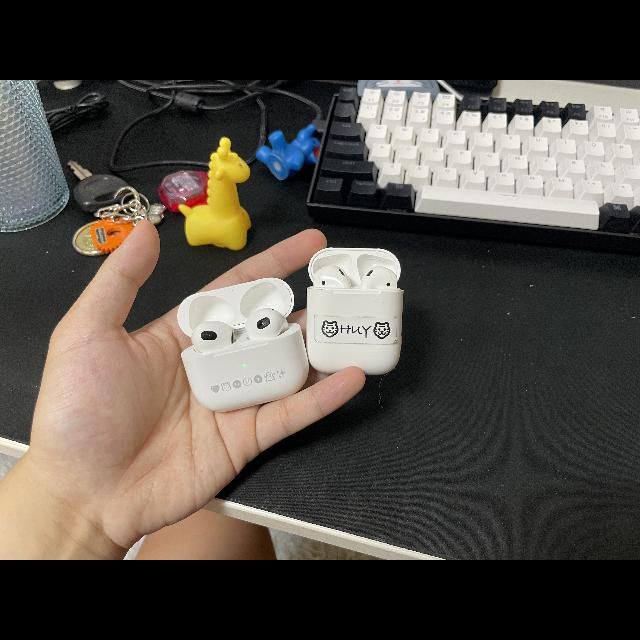airpod2: (302, 244, 412, 378)
airpod3: (173, 271, 311, 419)
